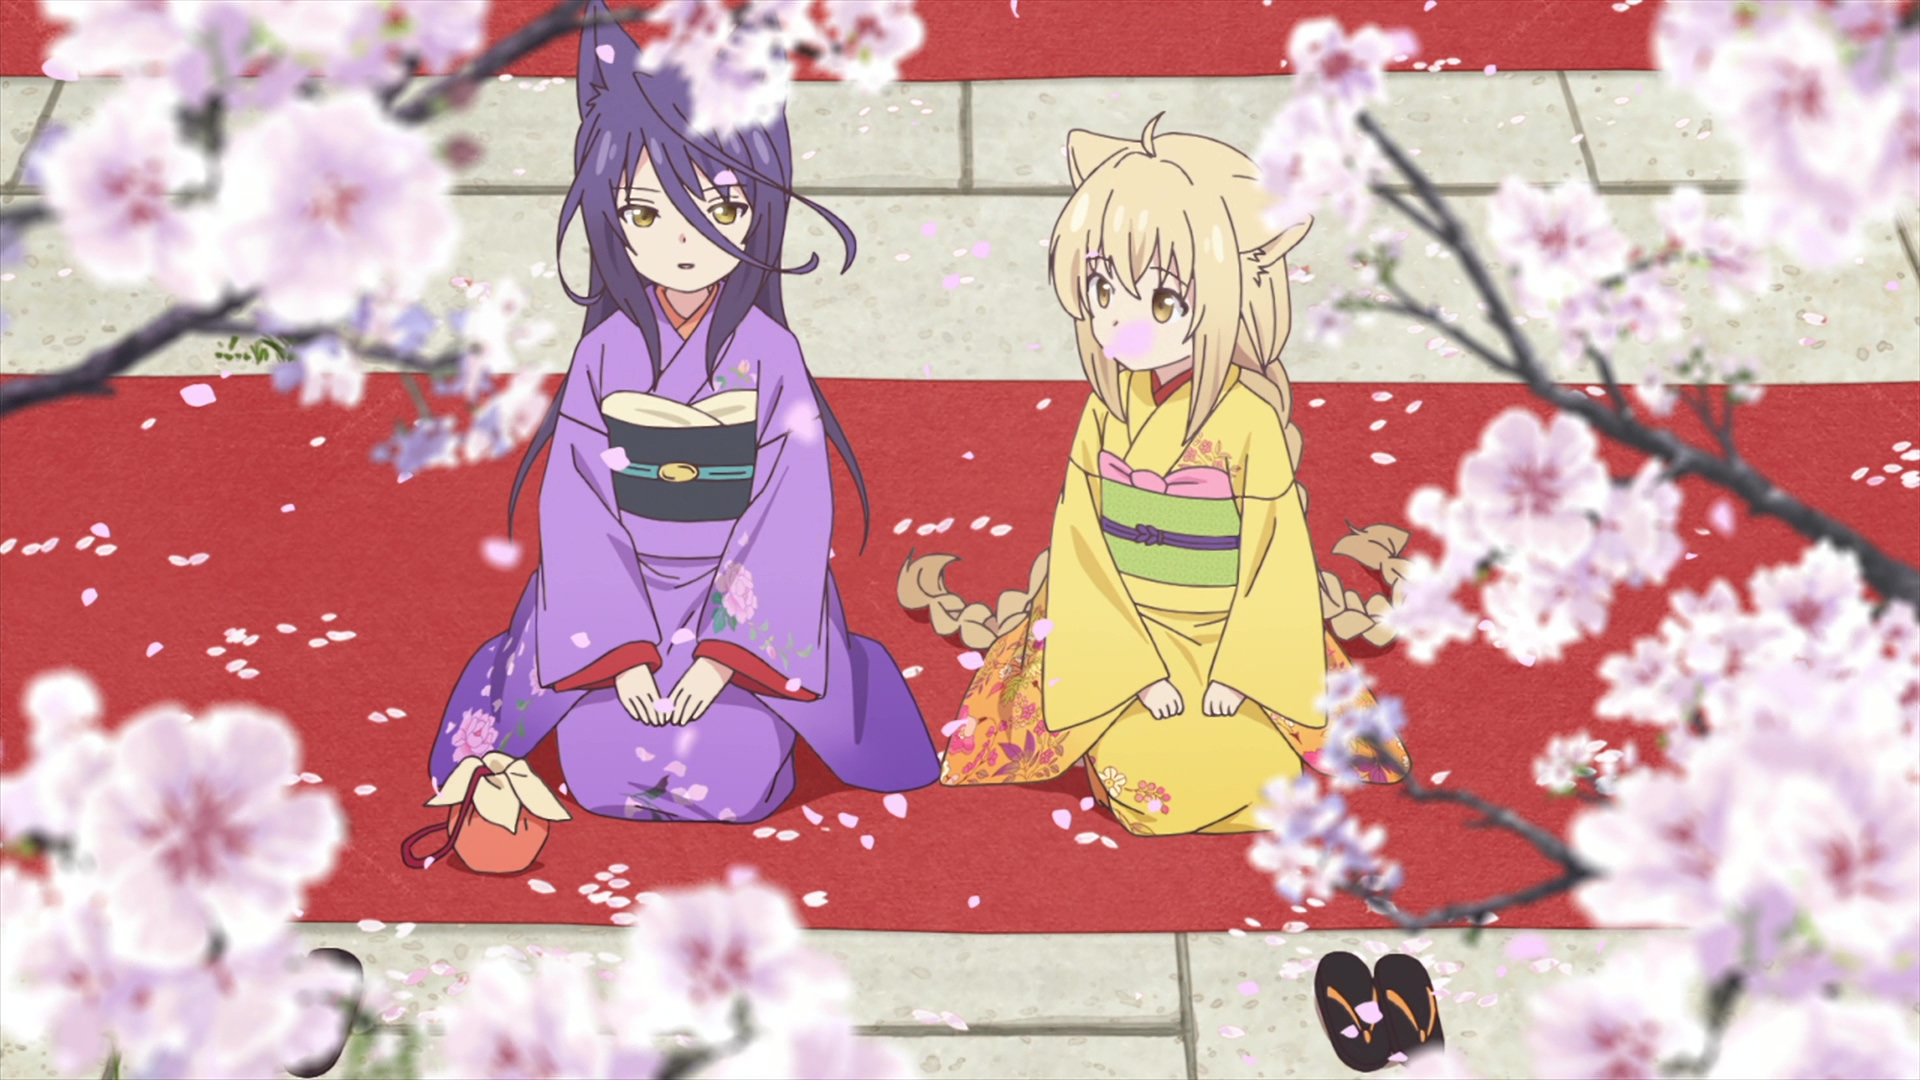柚: (897, 112, 1410, 833)
皋: (430, 1, 943, 819)
